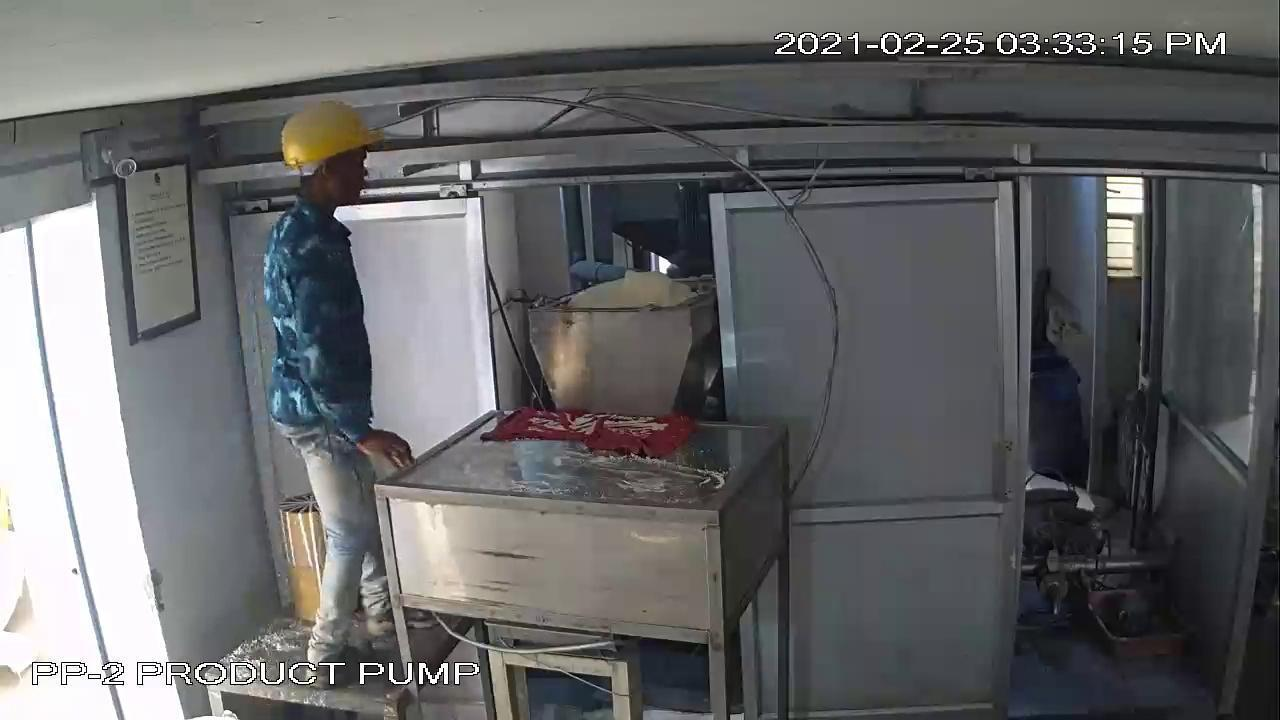helmet: (268, 96, 394, 176)
